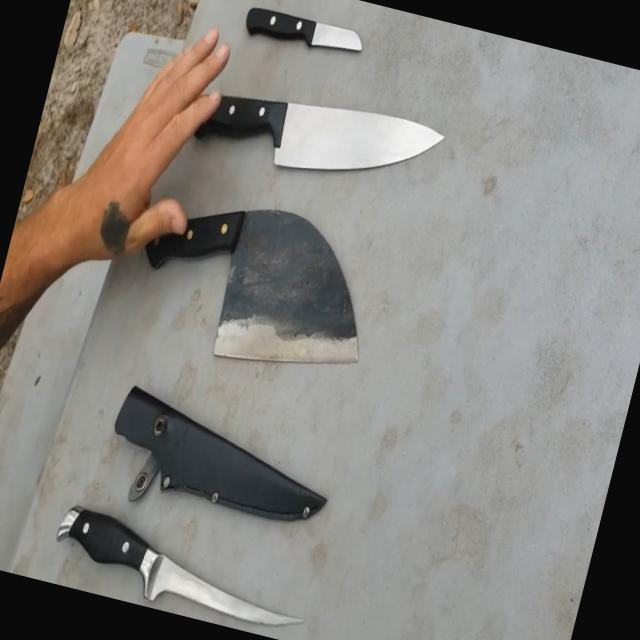knife: (110, 165, 407, 402), (21, 495, 329, 639), (162, 64, 454, 204), (227, 0, 375, 77)
